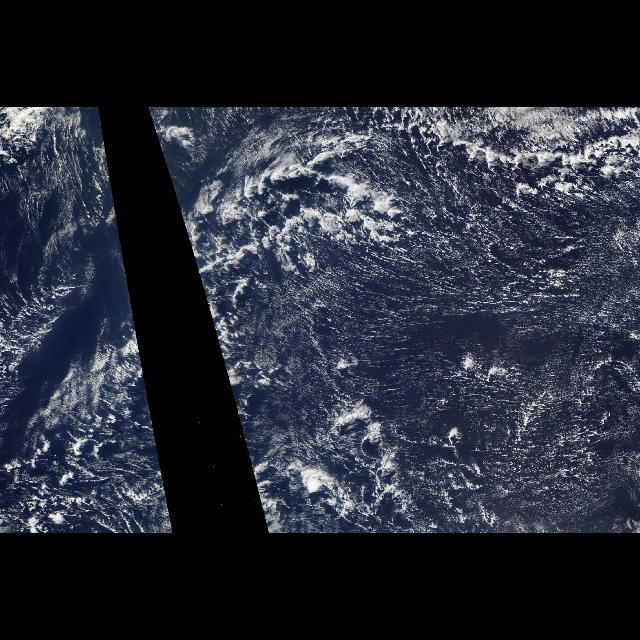Gravel: (158, 108, 640, 394), (0, 302, 174, 532)
Sugar: (212, 189, 638, 533)
